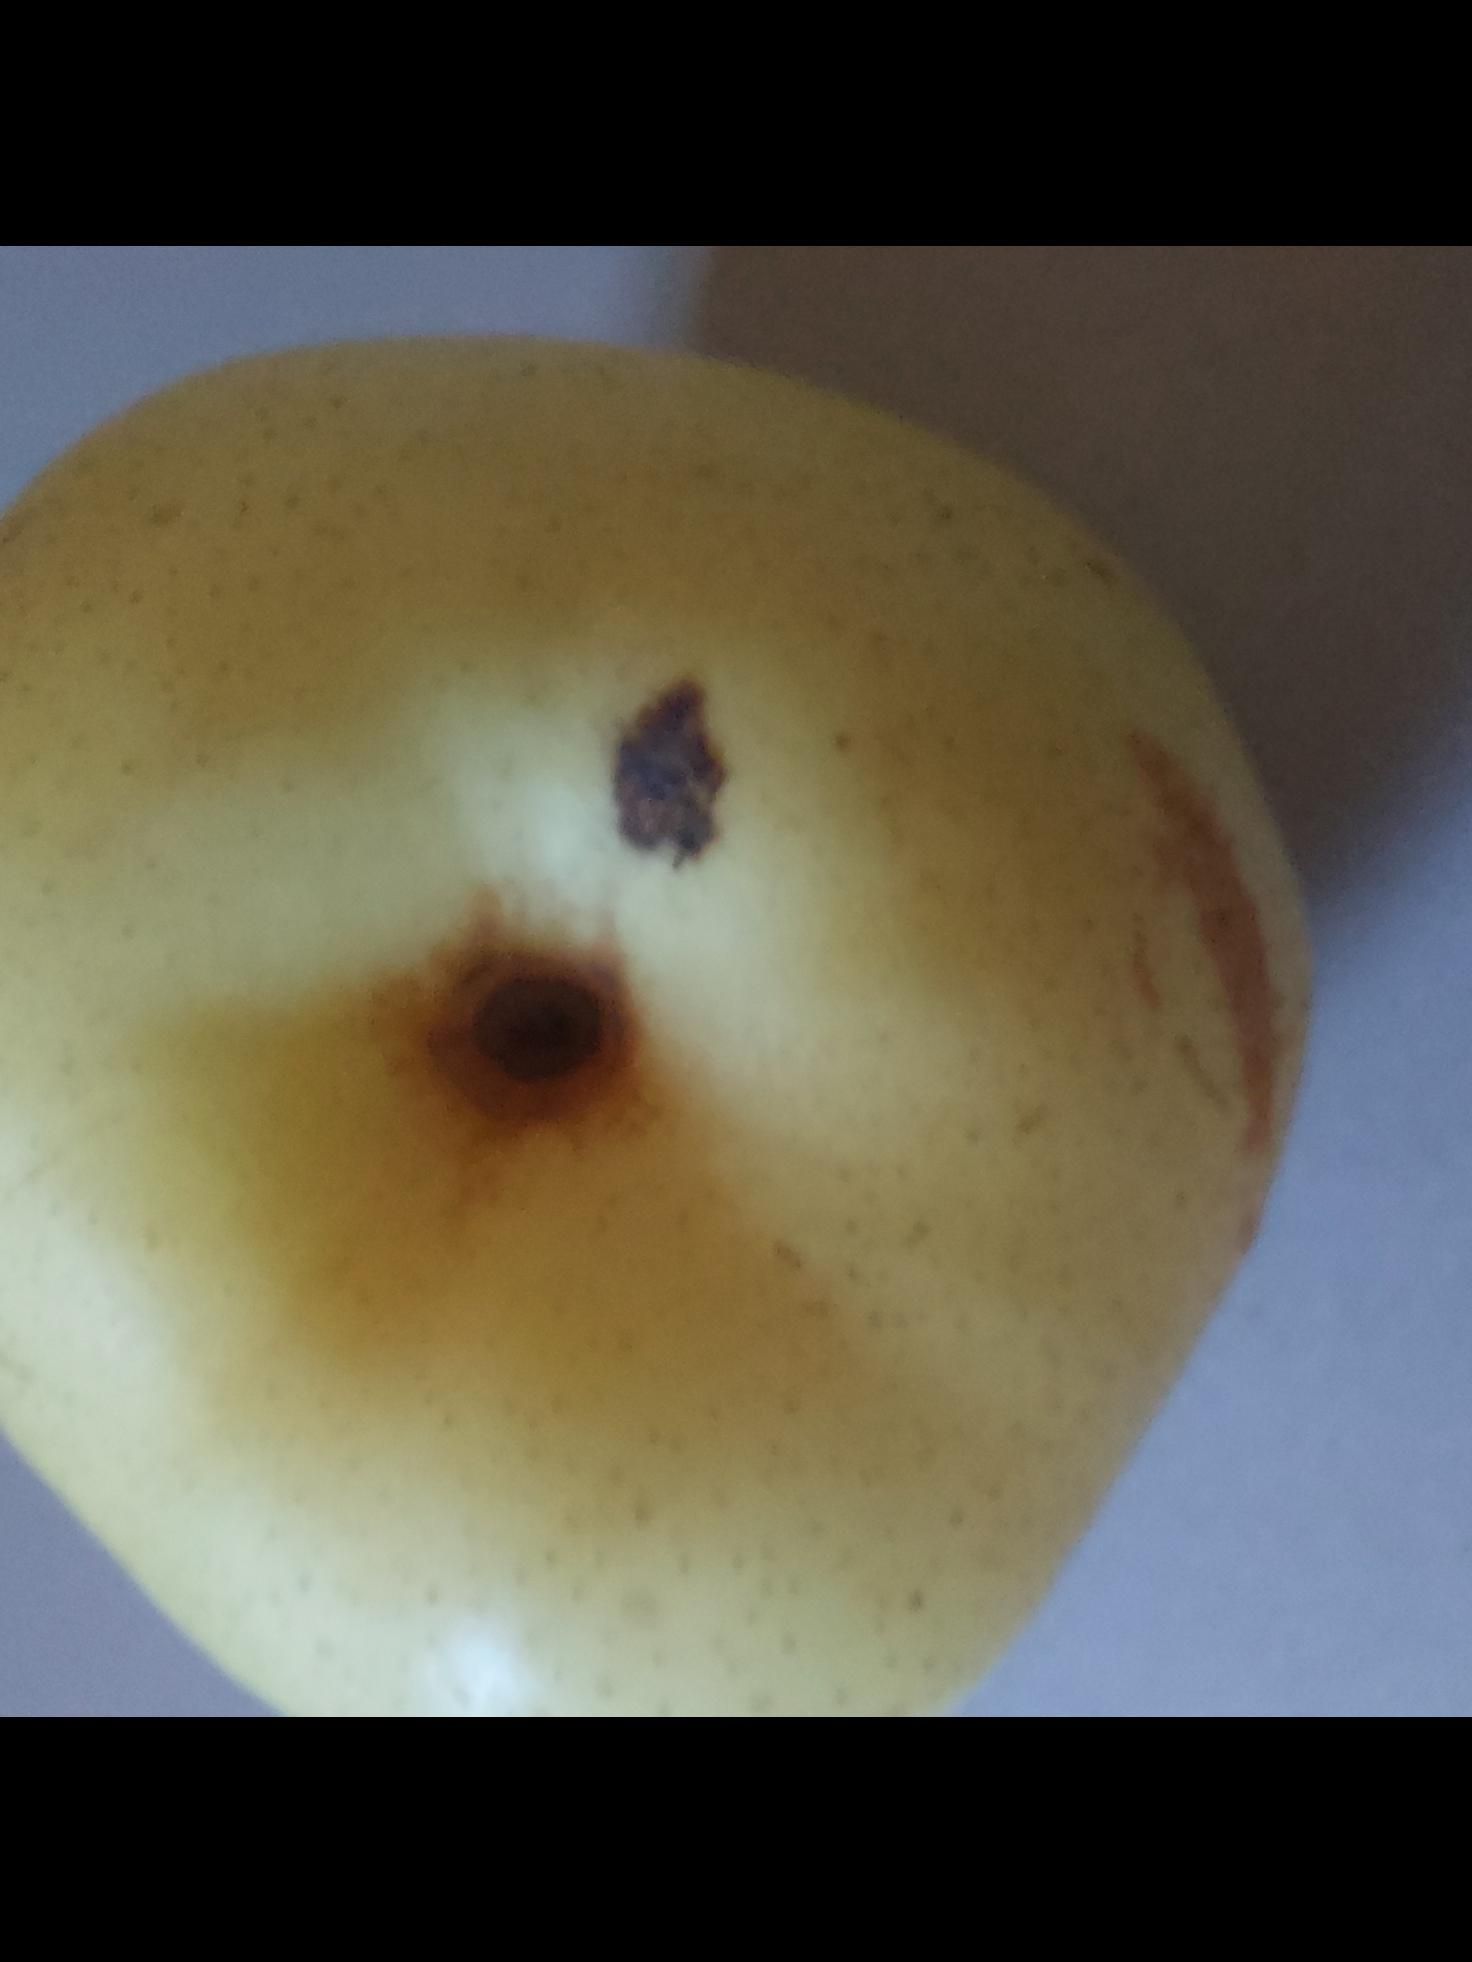Good Pear: (0, 329, 1342, 1718)
